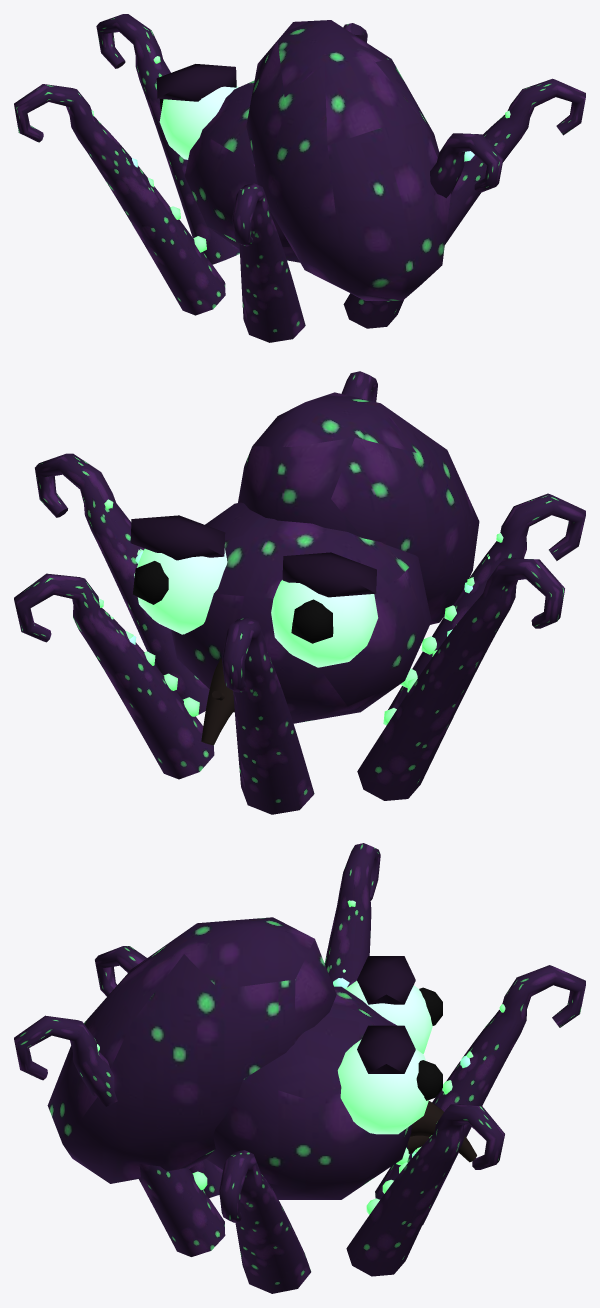
File: kraken_baby.glb
The picture shows the model from 3 angles, top to bottom: view 1: azimuth 30°, elevation 25°; view 2: azimuth 150°, elevation 25°; view 3: azimuth 270°, elevation 25°; orthographic projection. The views are drawn at different scales.
Parts seen in each view (by area): view 1: Mantle, KrakenBaby, Tentacle2, Tentacle3, Tentacle1, Tentacle5, Tentacle4; view 2: KrakenBaby, Mantle, Tentacle2, Tentacle0, Tentacle1, Tentacle5, Tentacle3, Tentacle4; view 3: Mantle, KrakenBaby, Tentacle0, Tentacle4, Tentacle5, Tentacle1, Tentacle2, Tentacle3.
Part boxes in pixels (<box>): Mantle: <box>246,20,450,300</box>; KrakenBaby: <box>156,34,364,262</box>; Tentacle2: <box>14,84,225,315</box>; Tentacle3: <box>232,183,305,342</box>; Tentacle1: <box>96,14,239,264</box>; Tentacle5: <box>445,78,585,244</box>; Tentacle4: <box>343,133,503,328</box>; KrakenBaby: <box>130,502,431,745</box>; Mantle: <box>238,392,479,624</box>; Tentacle2: <box>357,558,564,800</box>; Tentacle0: <box>14,573,214,779</box>; Tentacle1: <box>222,617,314,814</box>; Tentacle5: <box>35,453,209,714</box>; Tentacle3: <box>388,493,585,709</box>; Tentacle4: <box>341,371,377,401</box>; Mantle: <box>47,917,336,1183</box>; KrakenBaby: <box>206,956,476,1199</box>; Tentacle0: <box>346,1104,504,1276</box>; Tentacle4: <box>14,1015,225,1256</box>; Tentacle5: <box>219,1150,311,1293</box>; Tentacle1: <box>375,965,585,1225</box>; Tentacle2: <box>324,843,380,988</box>; Tentacle3: <box>95,946,222,1197</box>.
Bounding box in the file's own units: 1.5 × 0.813 × 1.32.
Materials: 7 (1 with a texture image).
